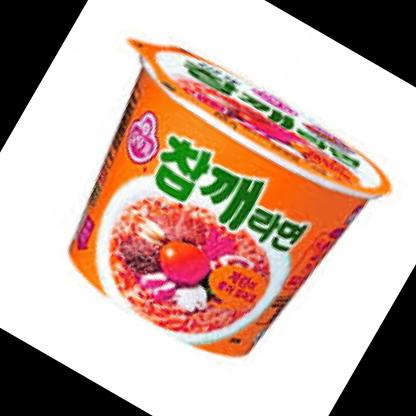Ramen: (20, 22, 407, 399)
